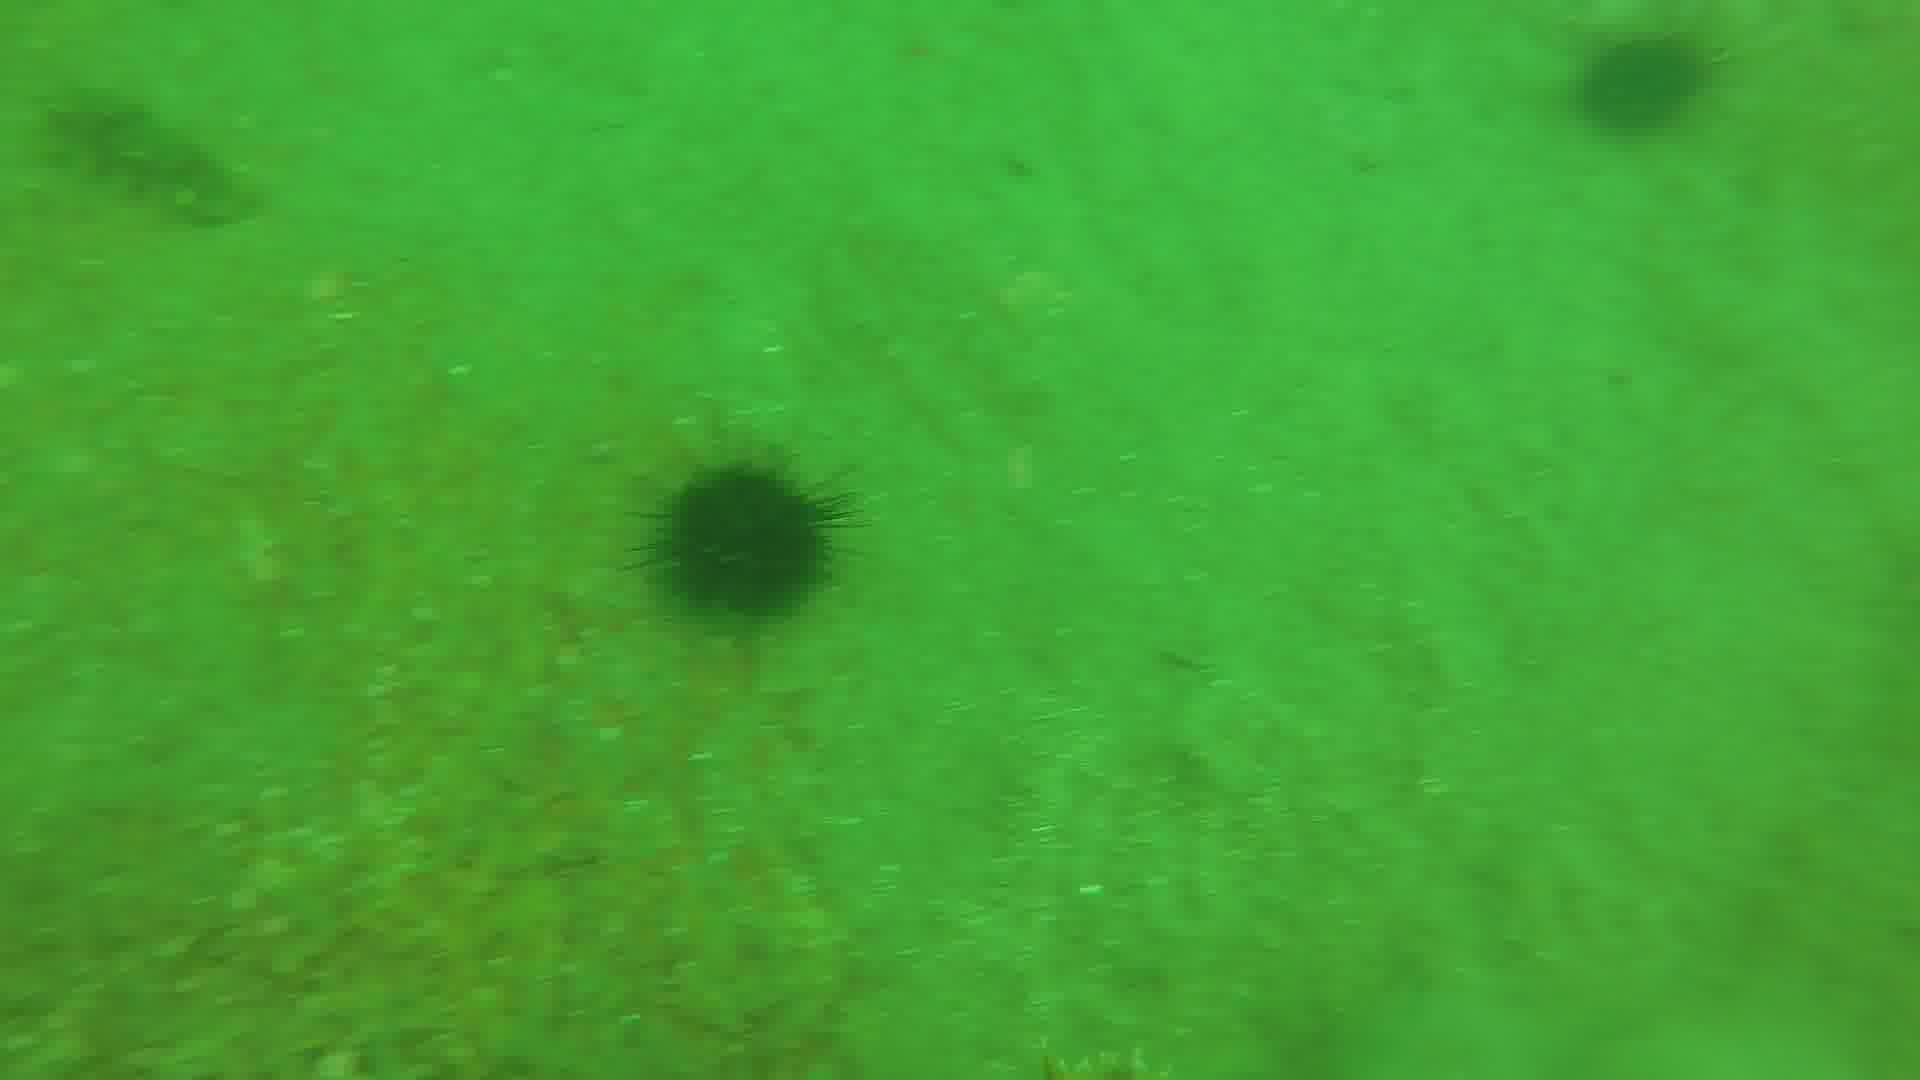echinus: (646, 458, 853, 626), (1582, 30, 1718, 132)
holothurian: (44, 90, 269, 223)
